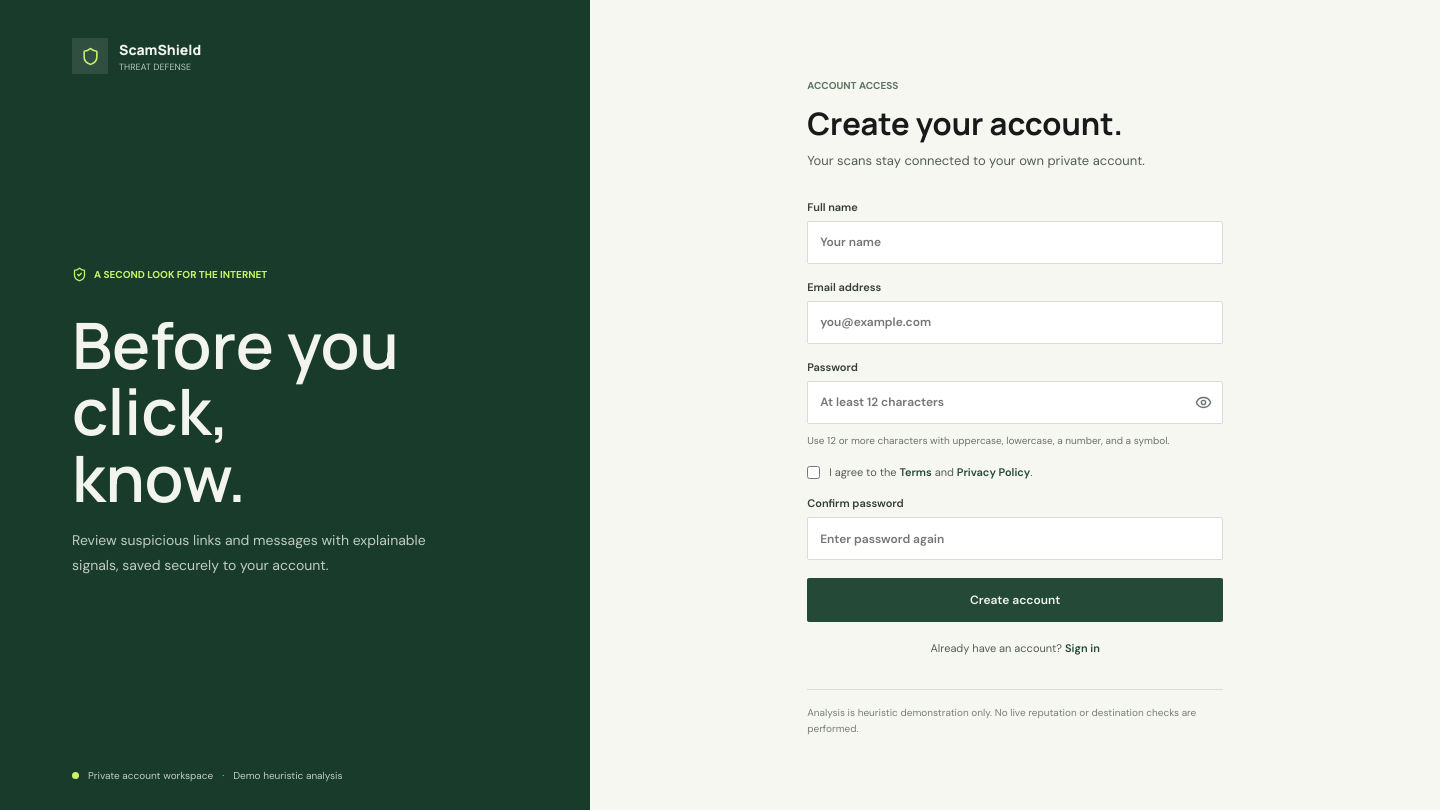
Test: authentication UI › requires agreement before creating an account
Type "Sam User" into the field labelled "Full name" at (1015, 242), box [807,221,1223,264]
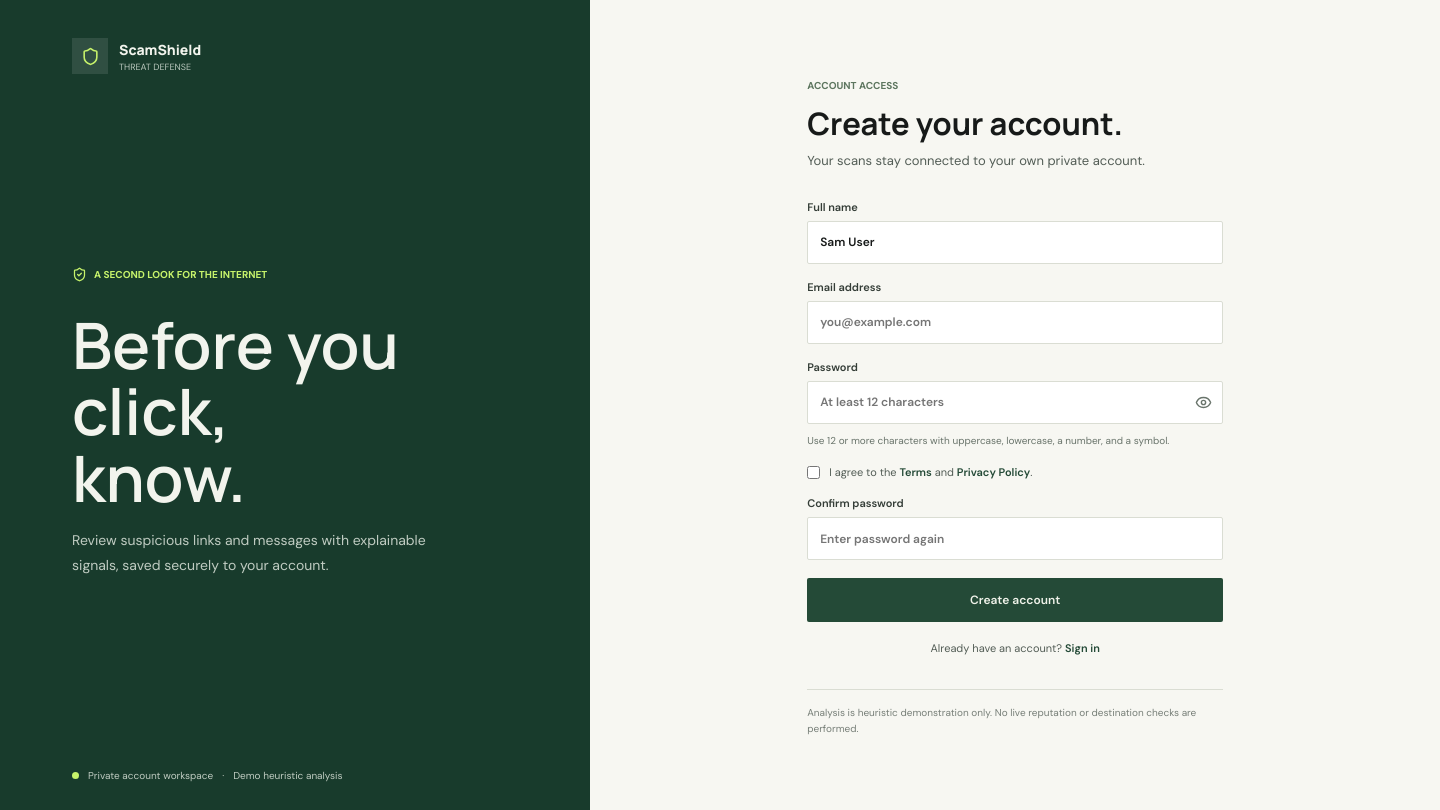
Type "sam@example.com" into the field labelled "Email address" at (1015, 322), box [807,301,1223,344]
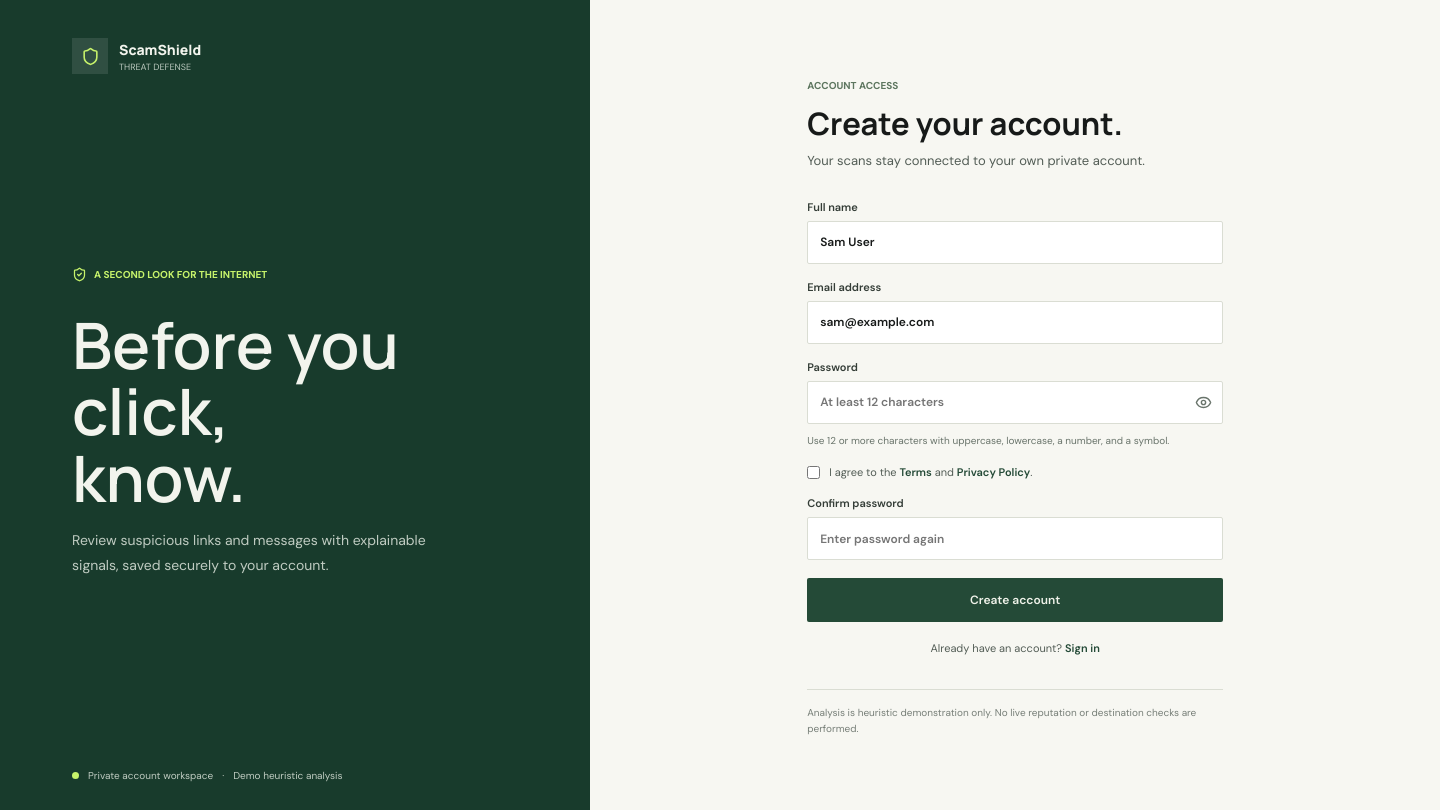
Type "StrongPass!1234" into the password field labelled "Password" at (1015, 402), box [807,381,1223,424]
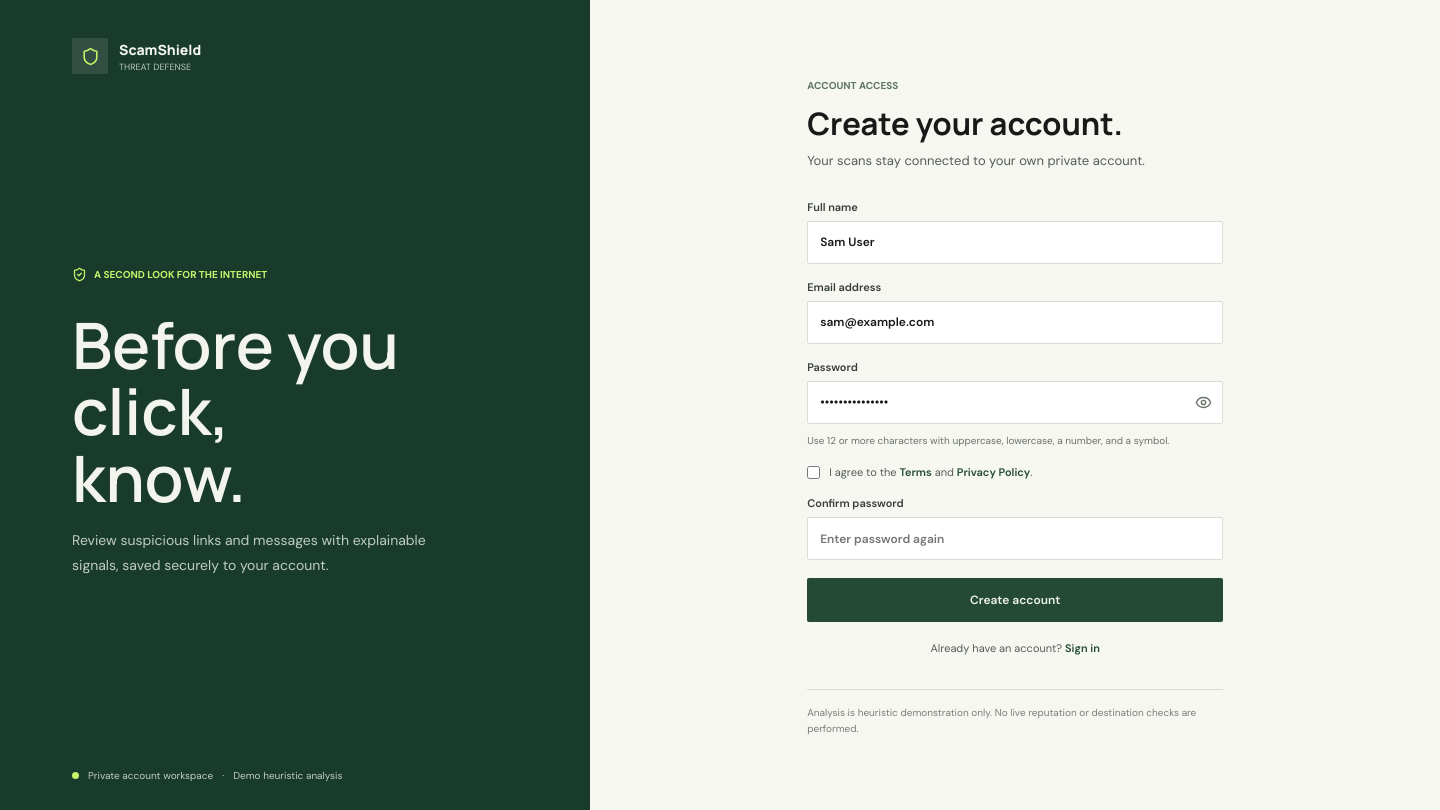
Type "StrongPass!1234" into the password field labelled "Confirm password" at (1015, 539), box [807,517,1223,560]
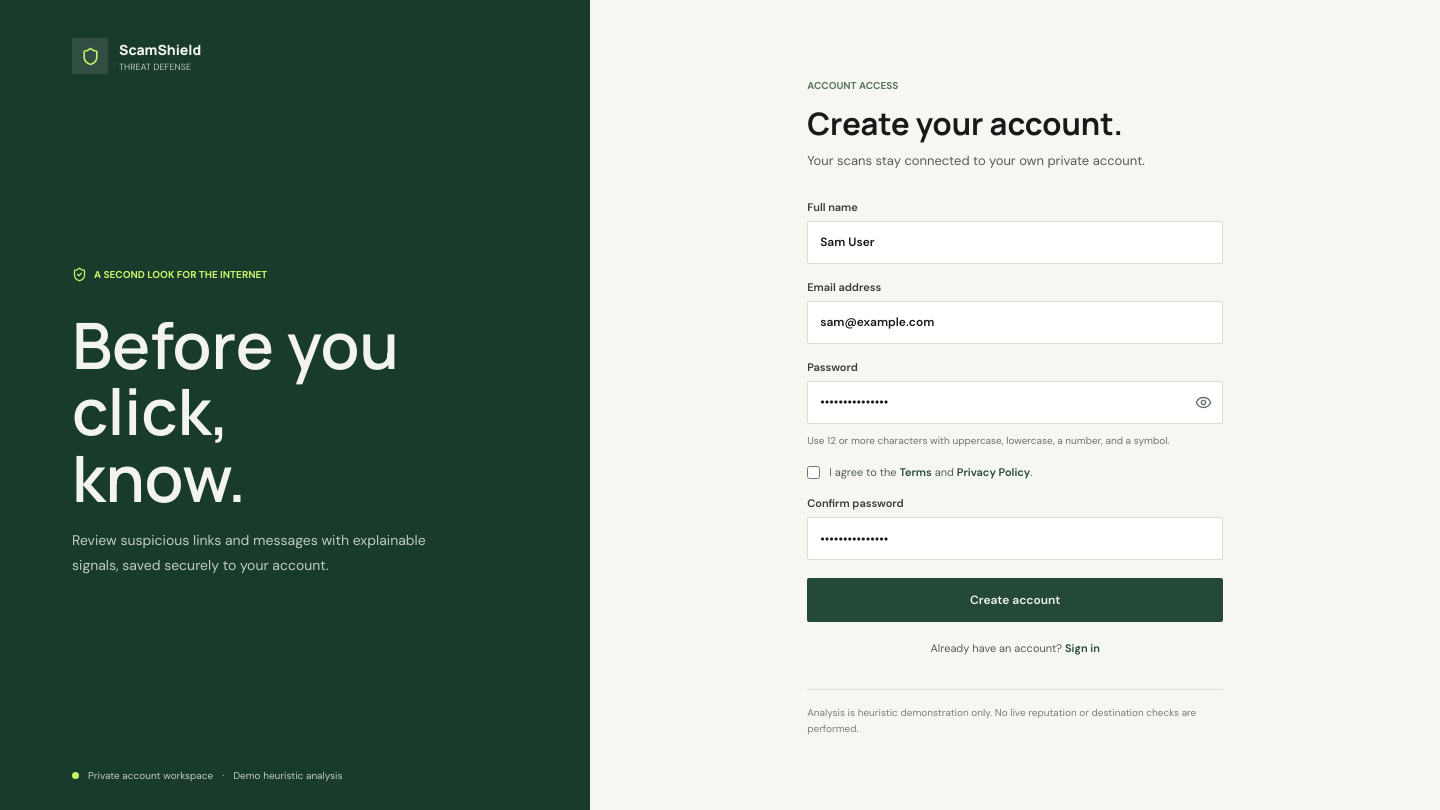
Click the button "Create account" at (1015, 600), box [807,578,1223,622]
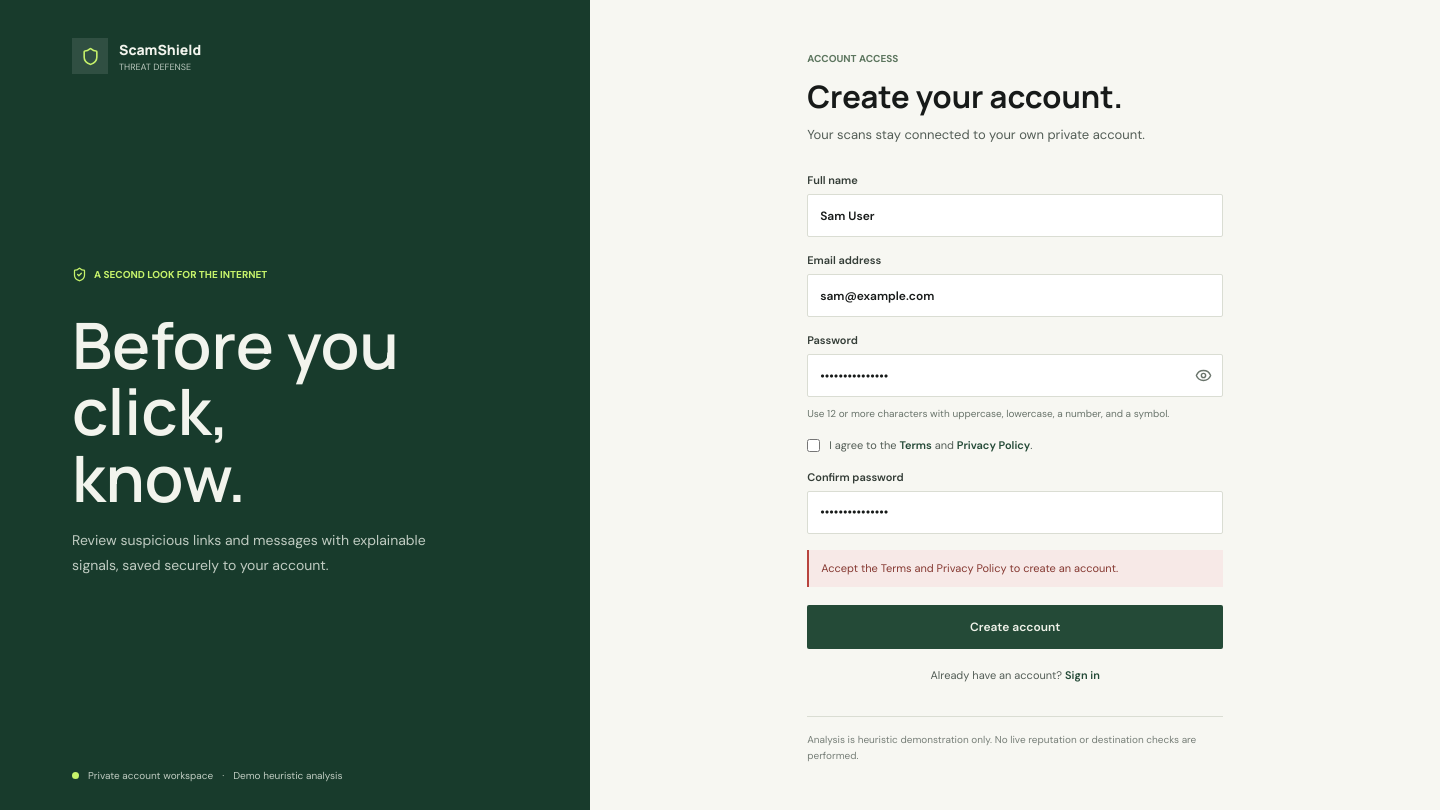
Now the message shows "Accept the Terms", box [821,560,1118,574]
